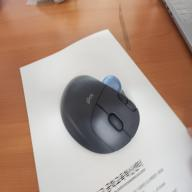mouse: (61, 73, 139, 155)
